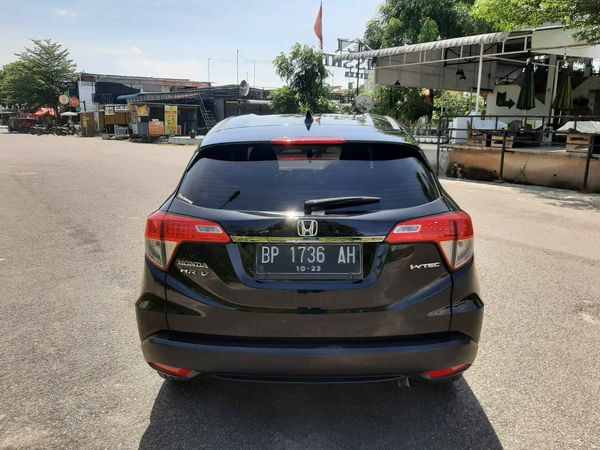plate: (254, 240, 364, 282)
